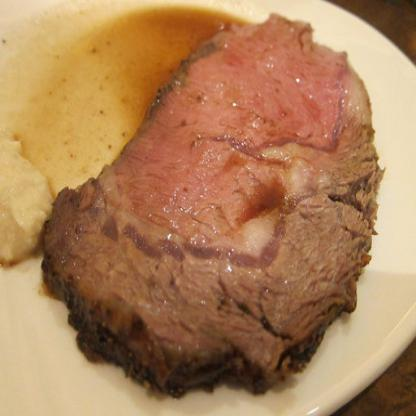beef: (46, 19, 372, 394)
